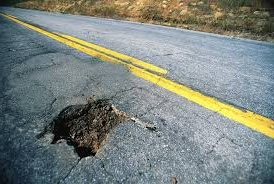pothole: (40, 88, 121, 164)
